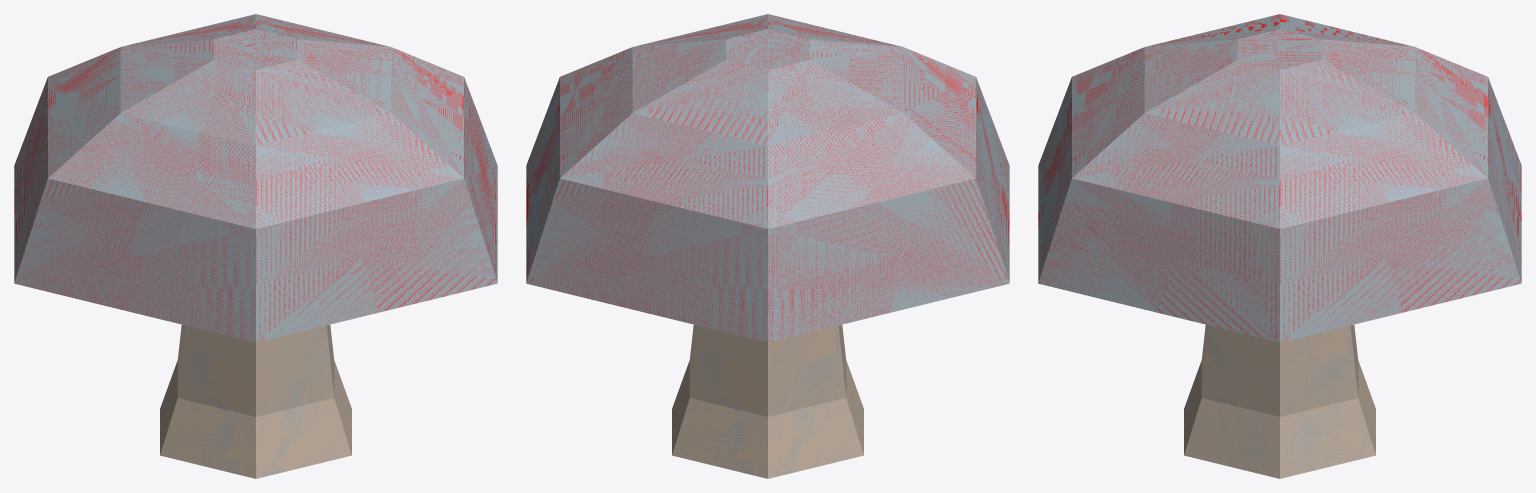
Rendered from Mushroom_03.fbx.
3 renders of one model, left to right at view 1: azimuth 30°, elevation 25°; view 2: azimuth 150°, elevation 25°; view 3: azimuth 270°, elevation 25°, orthographic.
Visible parts, largest first — view 1: Model; view 2: Model; view 3: Model.
Boxes of the visible parts, box(x1,y1,x2,y2) form: Model: box(14, 14, 497, 478); Model: box(526, 14, 1009, 478); Model: box(1038, 14, 1521, 478).
Size of the model in its own units: 61.14 by 46.23 by 52.95.
